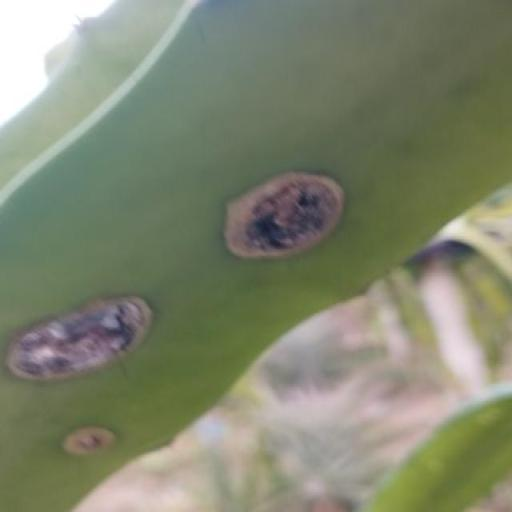stemcanker: (56, 420, 126, 463)
